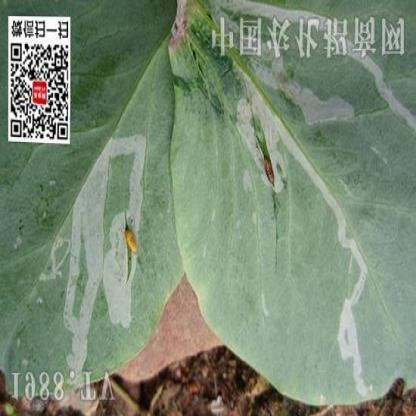whorl-maggot: (119, 221, 142, 262), (258, 152, 281, 192)
